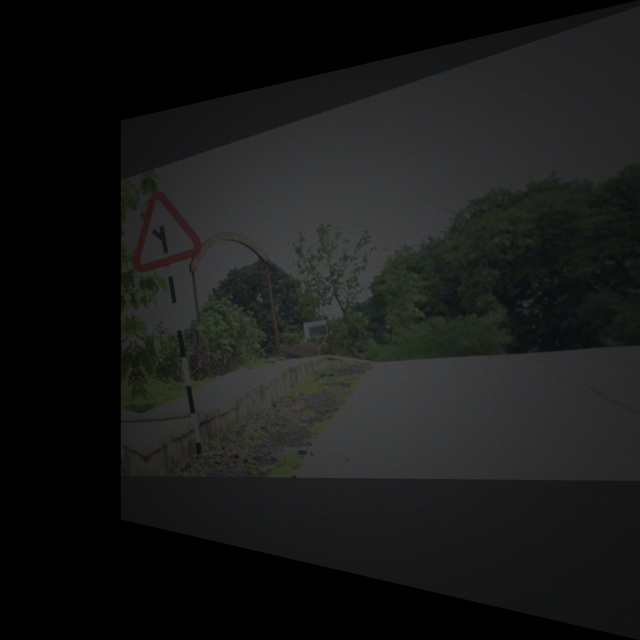Y_Intersection: (127, 176, 204, 275)
